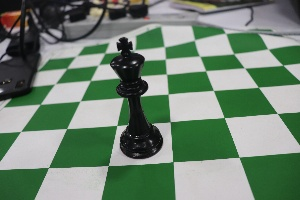black_king: (101, 28, 167, 168)
